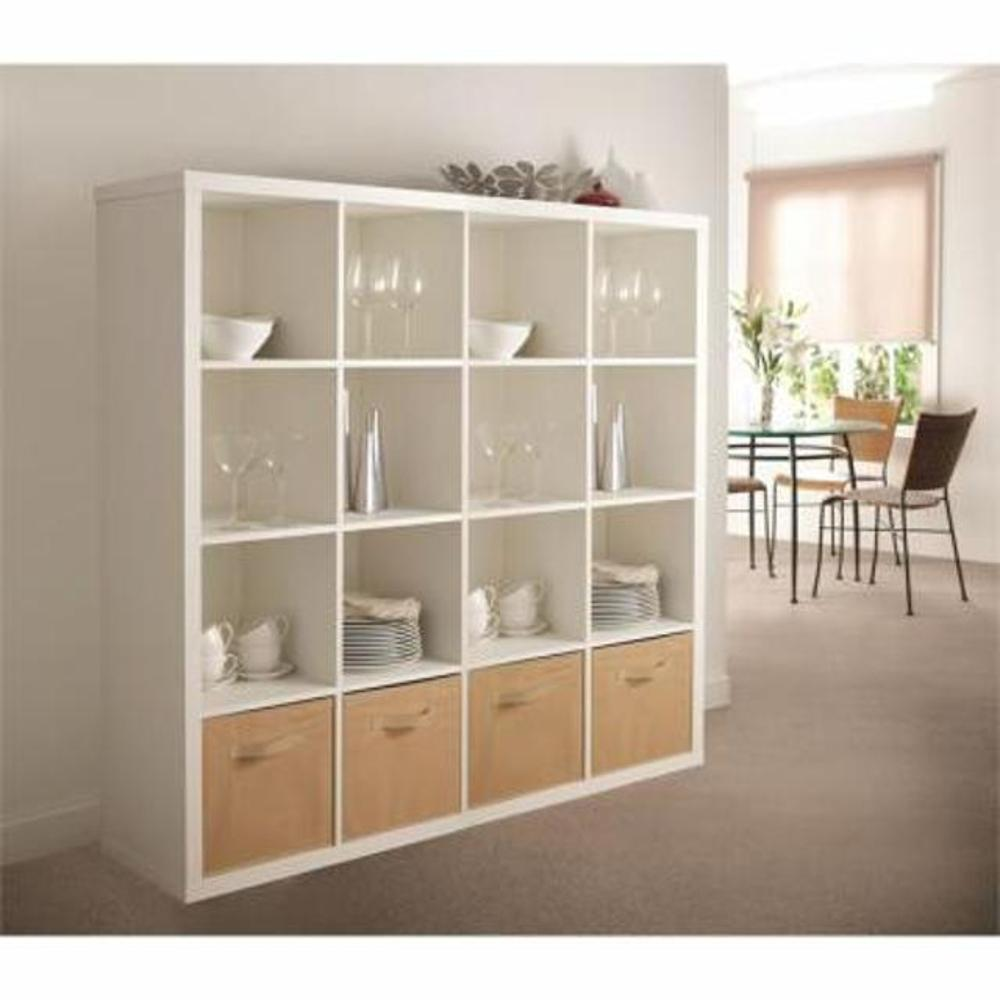lamp: (96, 166, 712, 906)
